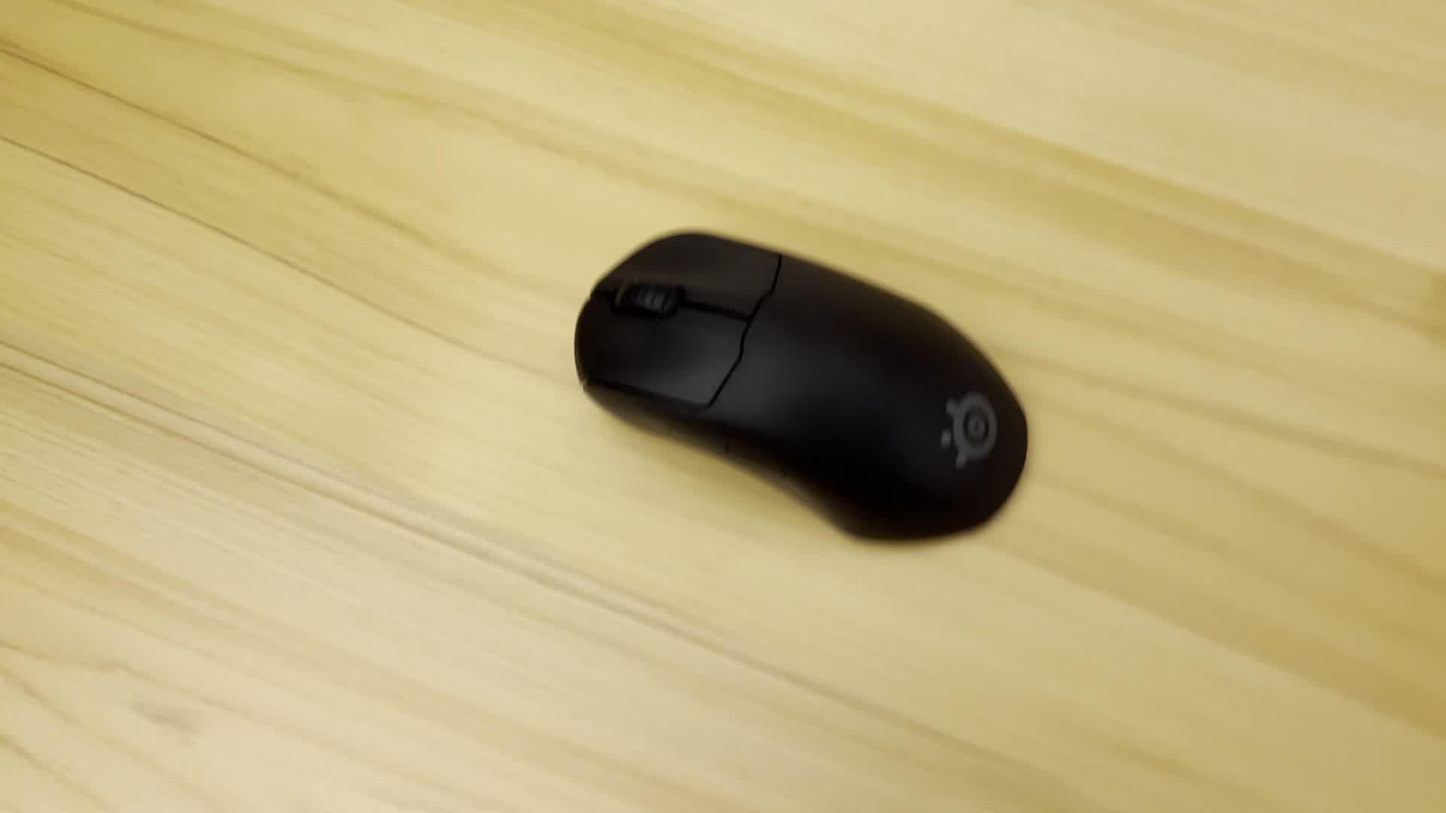mouse: (564, 218, 1050, 559)
